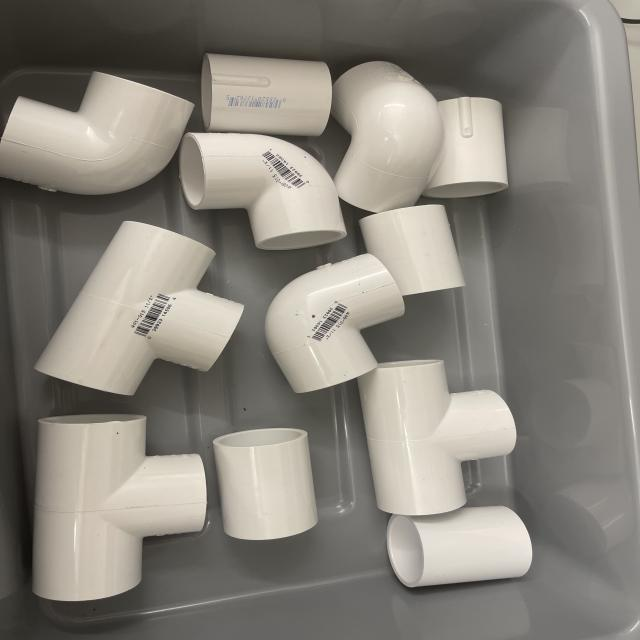L Joint: (0, 72, 187, 196), (265, 254, 406, 397), (179, 133, 347, 253), (331, 60, 443, 216)
T Joint: (34, 222, 245, 399), (30, 413, 209, 606), (367, 360, 517, 515)
